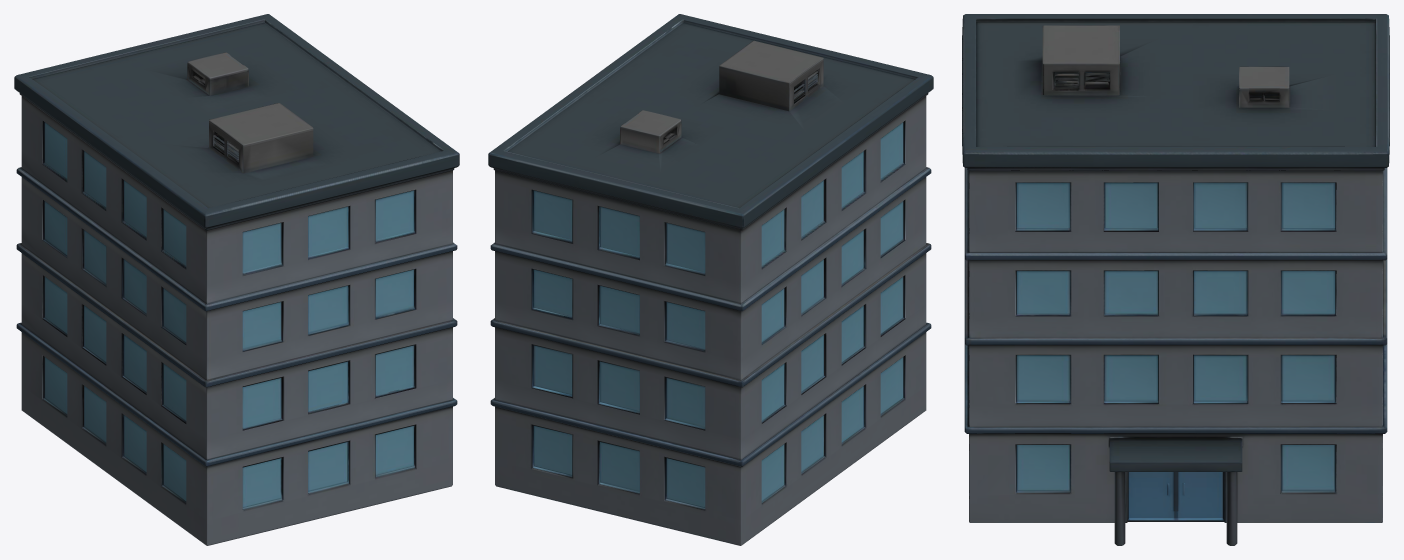
Rendered from office-apartment-blender-cleanup.glb.
3 views of the same model, side by side, from view 1: azimuth 30°, elevation 25°; view 2: azimuth 150°, elevation 25°; view 3: azimuth 270°, elevation 25° (orthographic). The views are drawn at different scales.
Parts seen in each view (by area): view 1: tripo_node_da878c89-f8e0-4aef-8efa-ad18b47edced; view 2: tripo_node_da878c89-f8e0-4aef-8efa-ad18b47edced; view 3: tripo_node_da878c89-f8e0-4aef-8efa-ad18b47edced.
Part boxes in pixels (<box>): tripo_node_da878c89-f8e0-4aef-8efa-ad18b47edced: <box>14,14,459,545</box>; tripo_node_da878c89-f8e0-4aef-8efa-ad18b47edced: <box>488,14,933,545</box>; tripo_node_da878c89-f8e0-4aef-8efa-ad18b47edced: <box>962,14,1389,545</box>.
Bounding box in the file's own units: 0.863 × 1 × 0.9648.
Materials: 1 (1 with a texture image).
